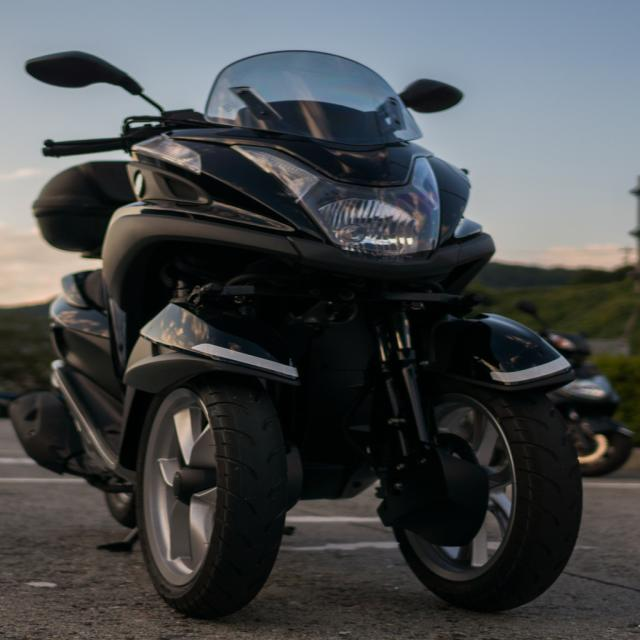Motorbikes: (25, 44, 607, 616)
